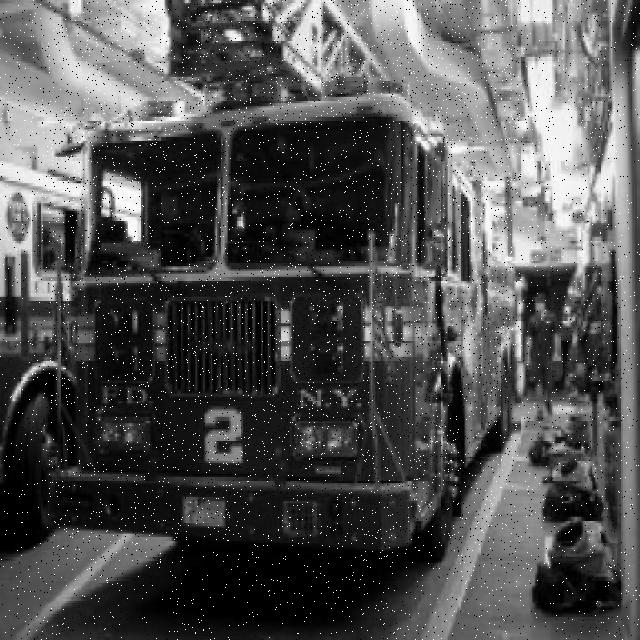Fire Truck: (48, 0, 520, 561)
